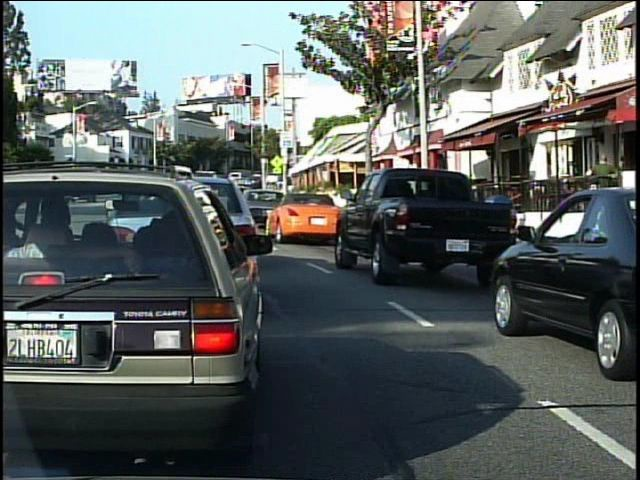person: (588, 148, 622, 228)
